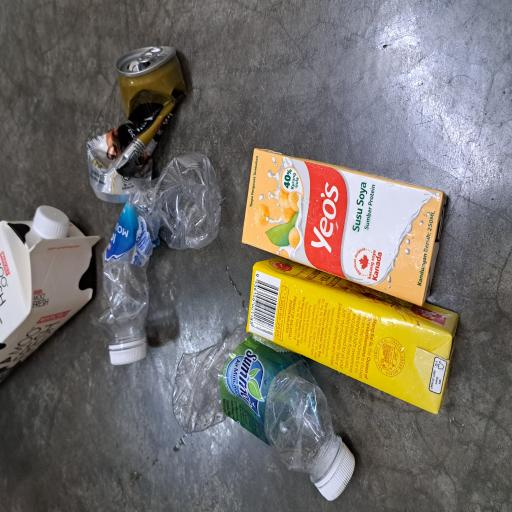can: (232, 113, 351, 252)
drink carton: (159, 319, 273, 512), (75, 326, 191, 512), (92, 0, 231, 133)
plastic bottle: (7, 226, 127, 474), (110, 133, 272, 299)
plastic bottle cap: (9, 416, 59, 474), (204, 46, 232, 94), (112, 142, 135, 197)
pop tab: (332, 175, 352, 225)
